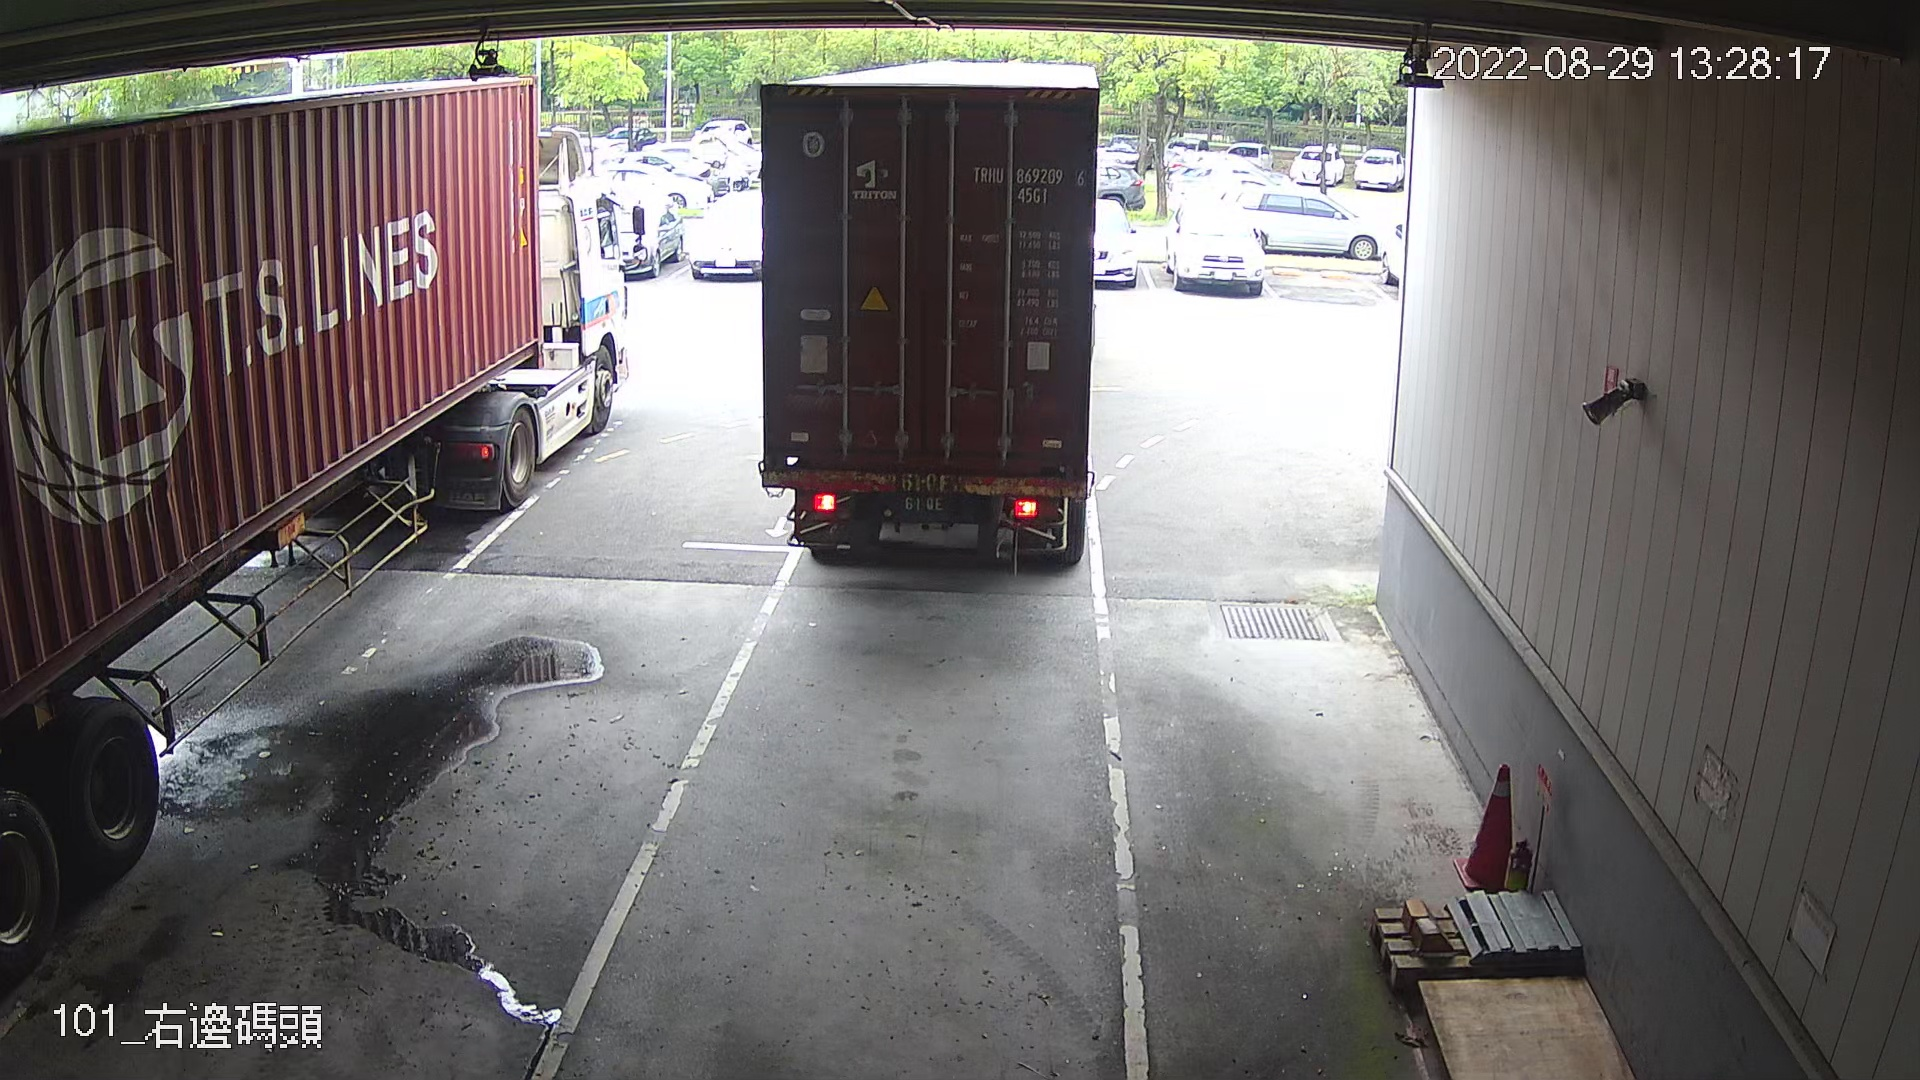container: (964, 156, 1089, 212)
